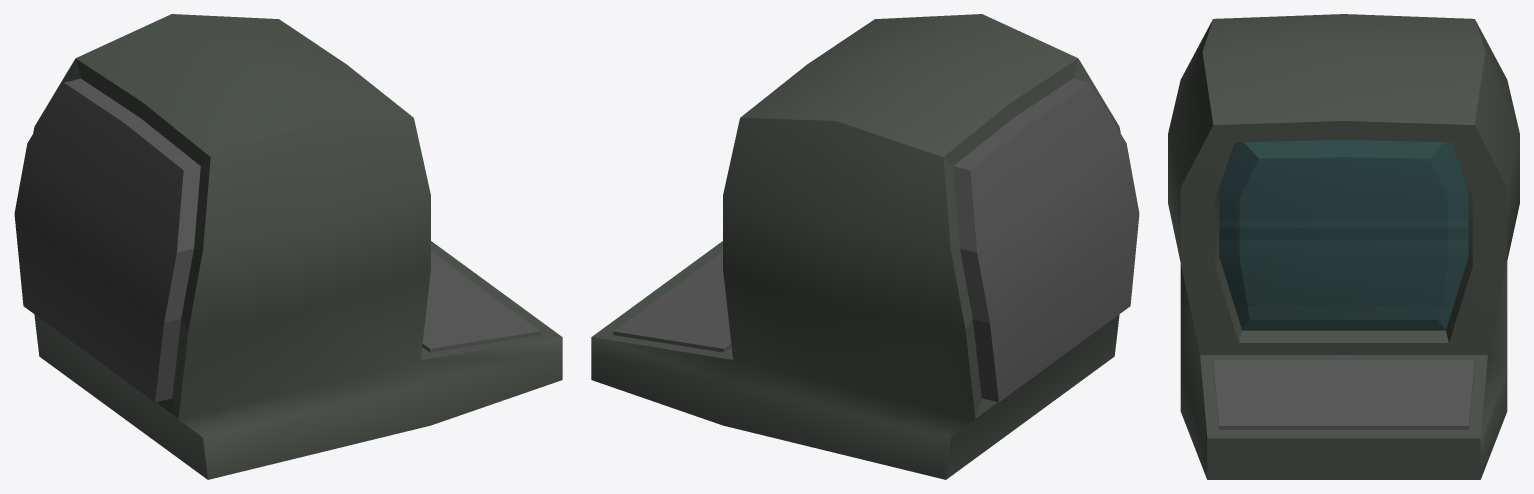
File: LowPoly_Computer_v1.fbx
3 renders of one model, left to right at view 1: azimuth 30°, elevation 25°; view 2: azimuth 150°, elevation 25°; view 3: azimuth 270°, elevation 25°, orthographic. The views are drawn at different scales.
Visible parts, largest first — view 1: oldPC; view 2: oldPC; view 3: oldPC.
Boxes of the visible parts, x1=… form: oldPC: x1=14, y1=14, x2=562, y2=479; oldPC: x1=591, y1=14, x2=1139, y2=479; oldPC: x1=1168, y1=14, x2=1519, y2=479.
Size of the model in its own units: 13.78 by 10.96 by 10.77.
